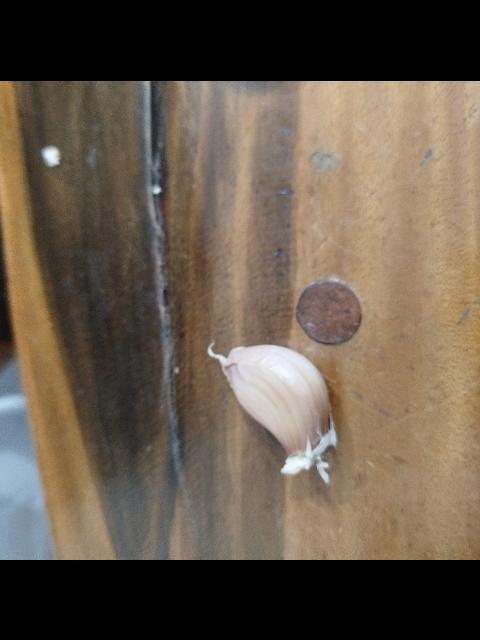garlic: (206, 338, 338, 484)
